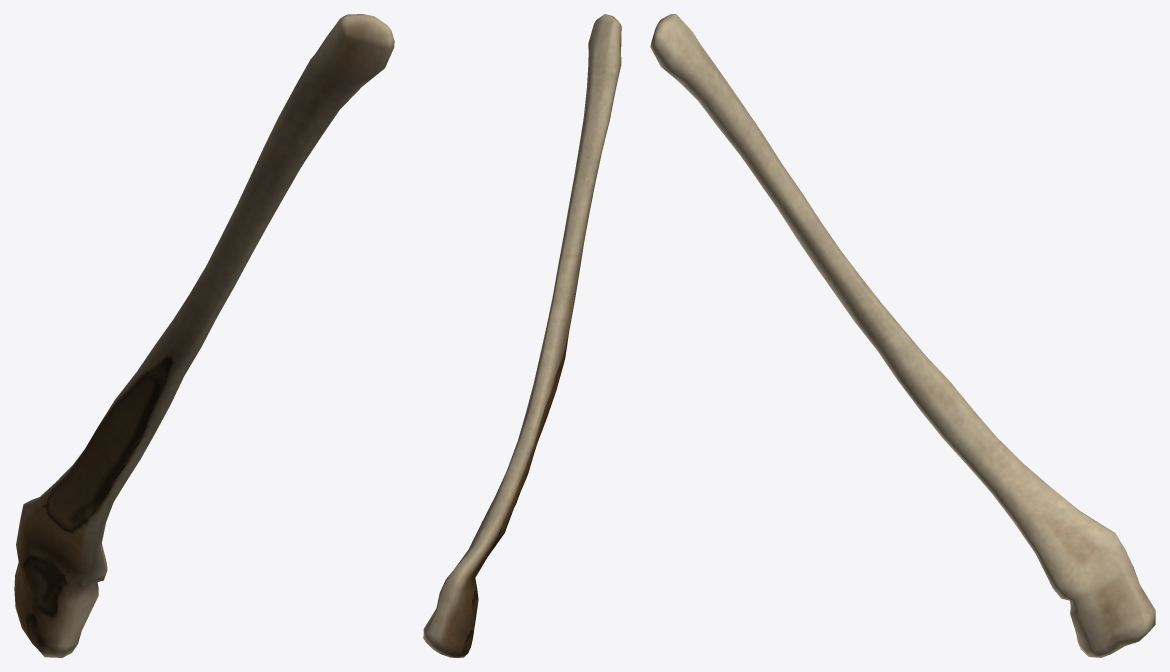
The model's file is Fibula.glb.
3 views of the same model, side by side, from view 1: azimuth 30°, elevation 25°; view 2: azimuth 150°, elevation 25°; view 3: azimuth 270°, elevation 25° (orthographic). The views are drawn at different scales.
Visible parts, largest first — view 1: Fibula_Left1:Fibula_Left; view 2: Fibula_Left1:Fibula_Left; view 3: Fibula_Left1:Fibula_Left.
Part boxes in pixels (x1,y1,x2,y2): Fibula_Left1:Fibula_Left: (14,14,394,657); Fibula_Left1:Fibula_Left: (423,14,621,657); Fibula_Left1:Fibula_Left: (650,14,1155,657).
Size of the model in its own units: 12.38 by 98.21 by 69.27.
Materials: 1 (1 with a texture image).
